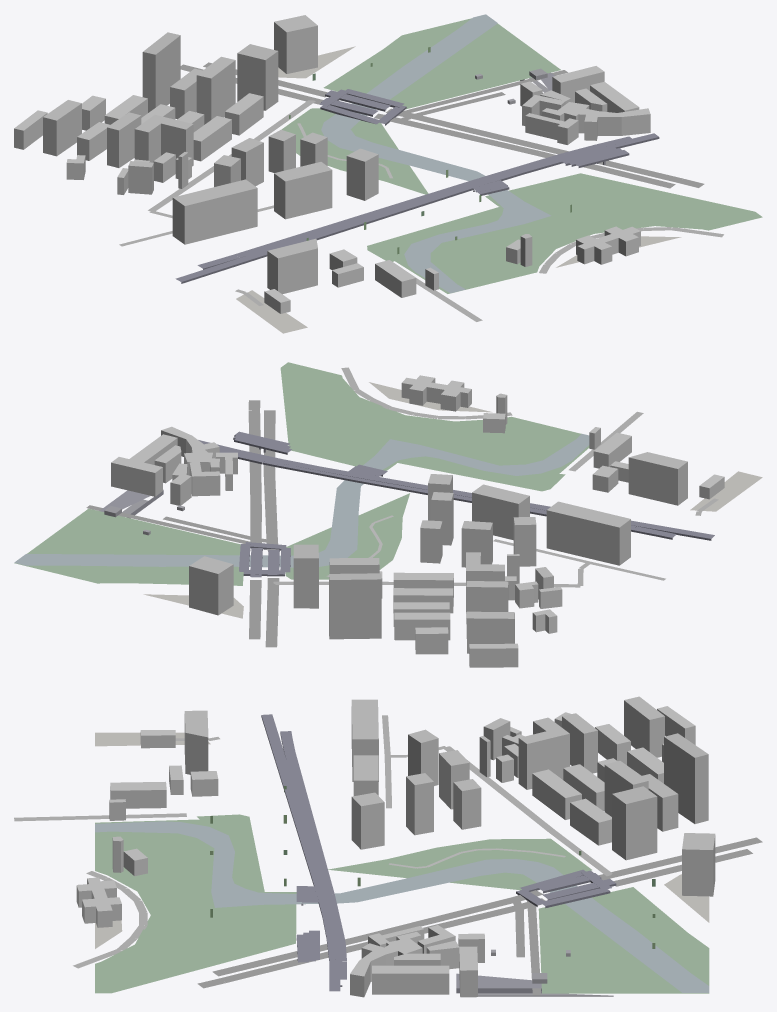
The picture shows the model from 3 angles, top to bottom: view 1: azimuth 30°, elevation 25°; view 2: azimuth 150°, elevation 25°; view 3: azimuth 270°, elevation 25°; orthographic projection. The views are drawn at different scales.
Bounding box in the file's own units: 541 × 71.88 × 610.
